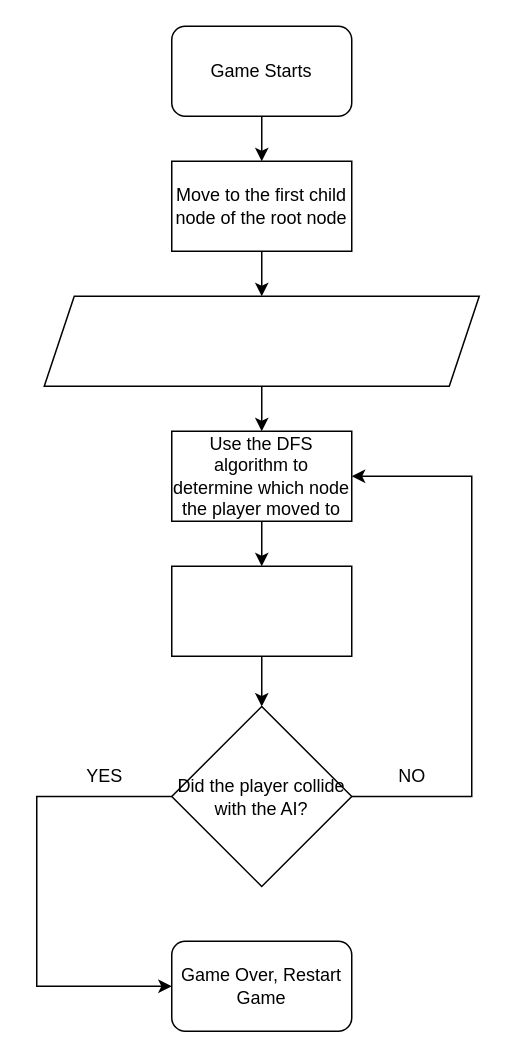
Some shapes in this 510 by 1058 pixel diagram are drawn without their labels. The centre of each missing label's shape, as x and y in pixels:
"Move to the player's target node" goes at [261,610].
"Wait for the player to move to a non-root node" goes at [261,340].
